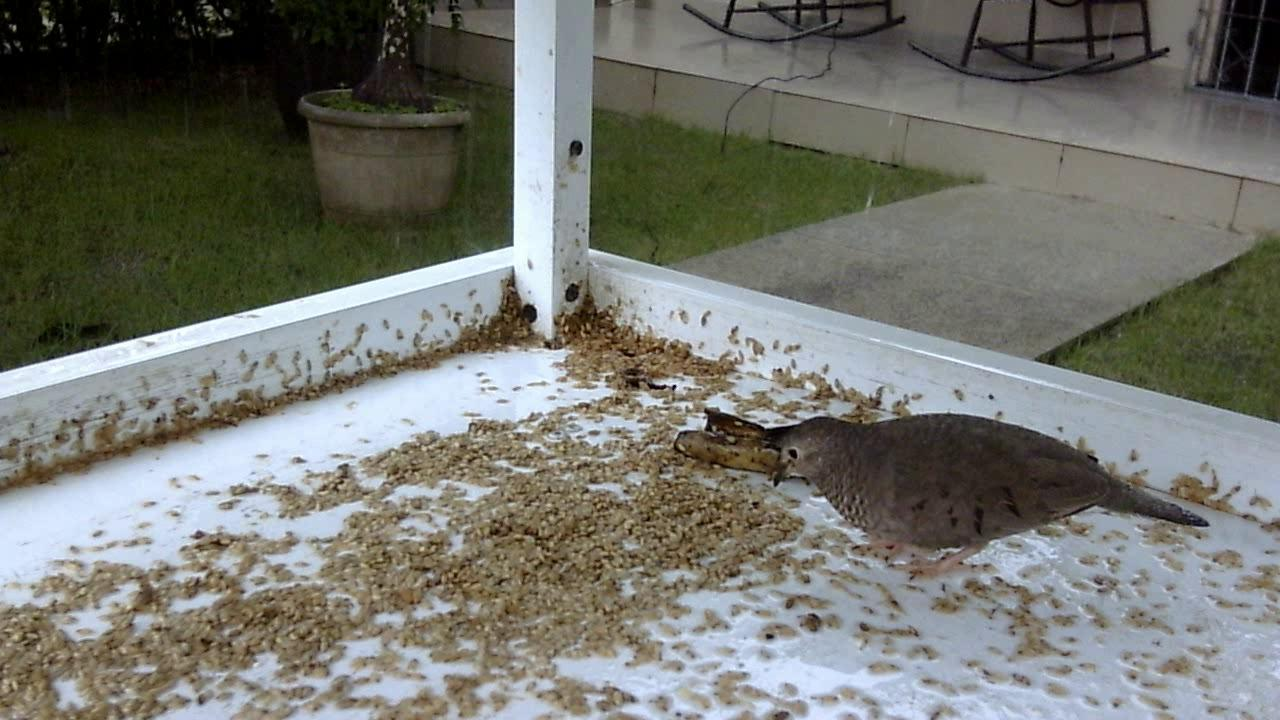rolinha: (729, 401, 1215, 590)
